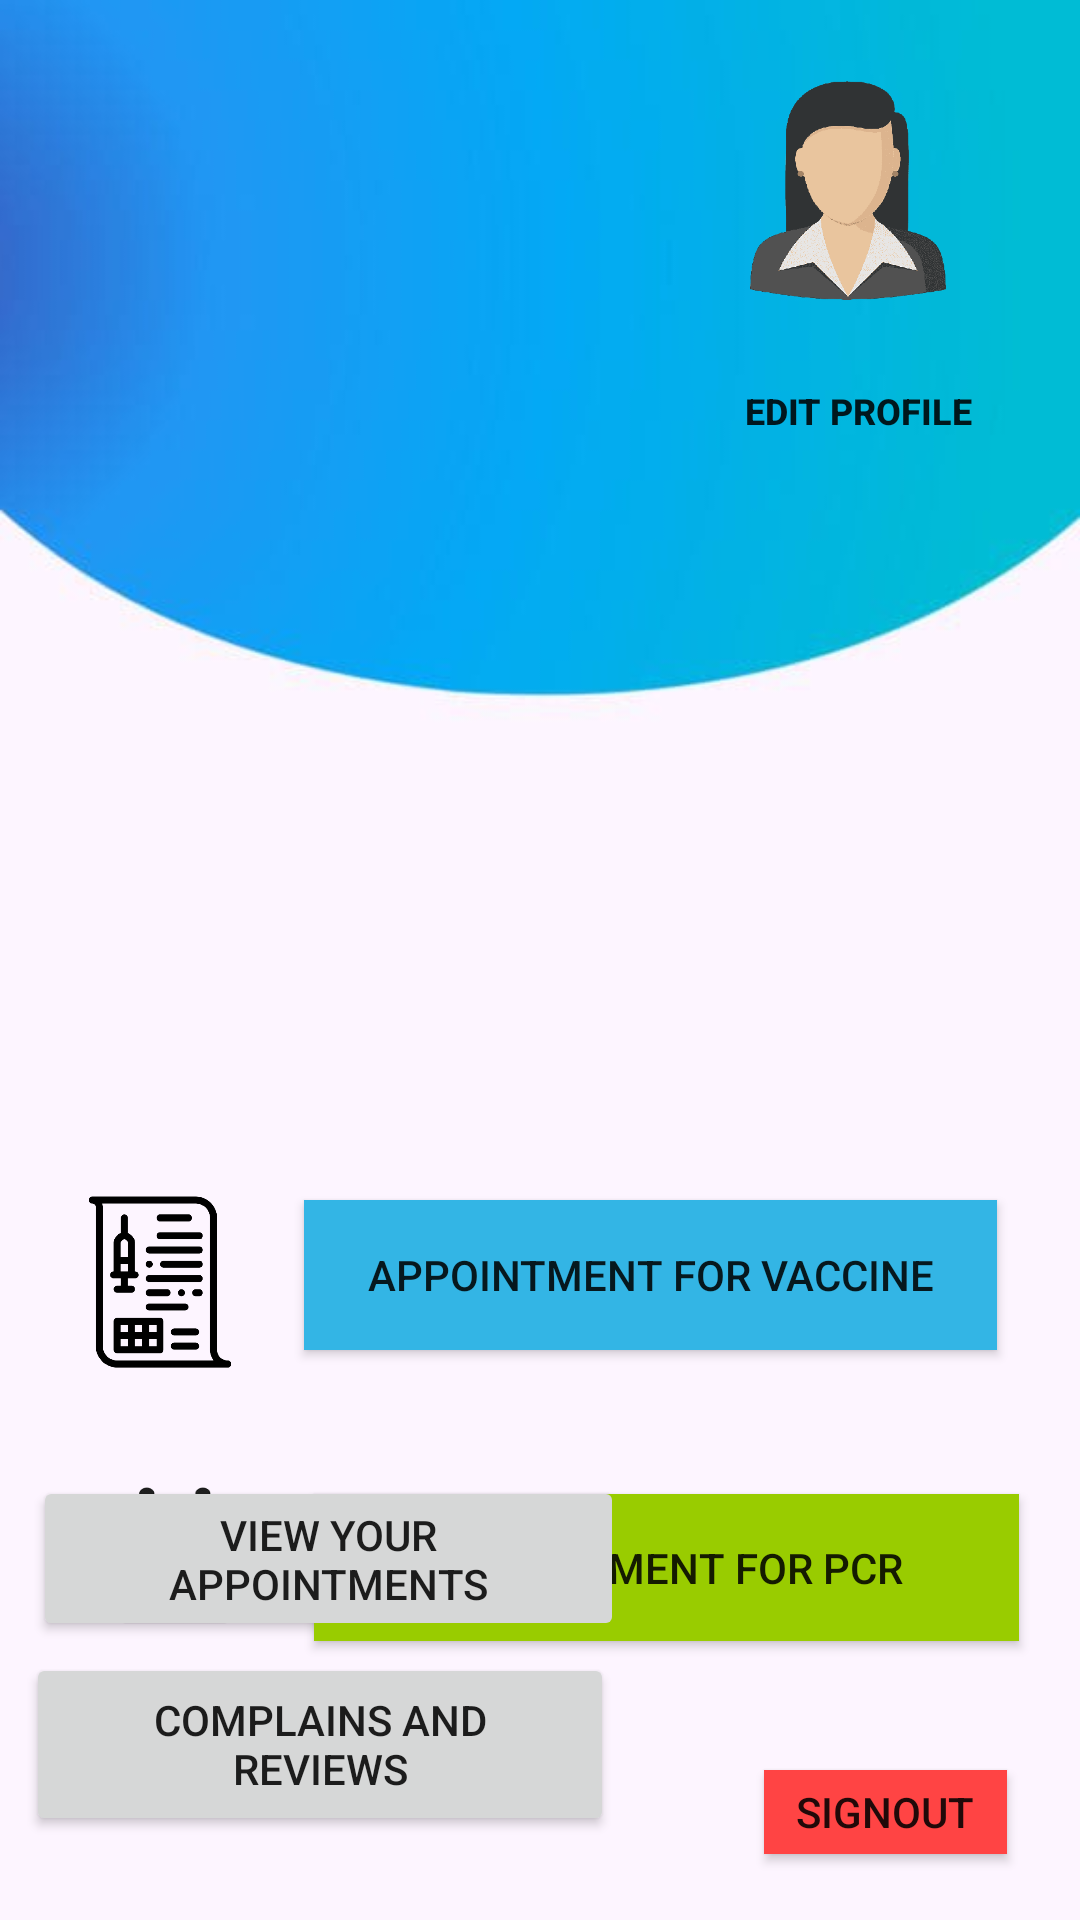

Named icons in this screenshot (1080w x 1920h) and their bounding boxes, (x1, y1, x2, y2):
pfphoto: (656, 48, 946, 333)
